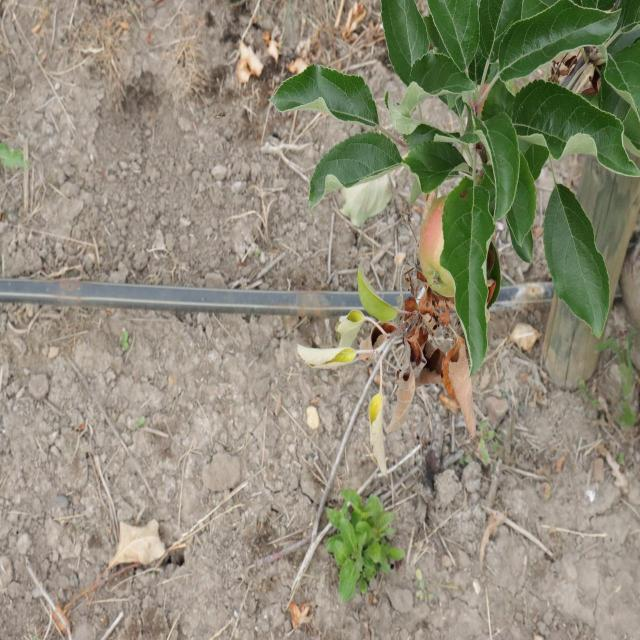-FireBlight-: (356, 292, 476, 447)
